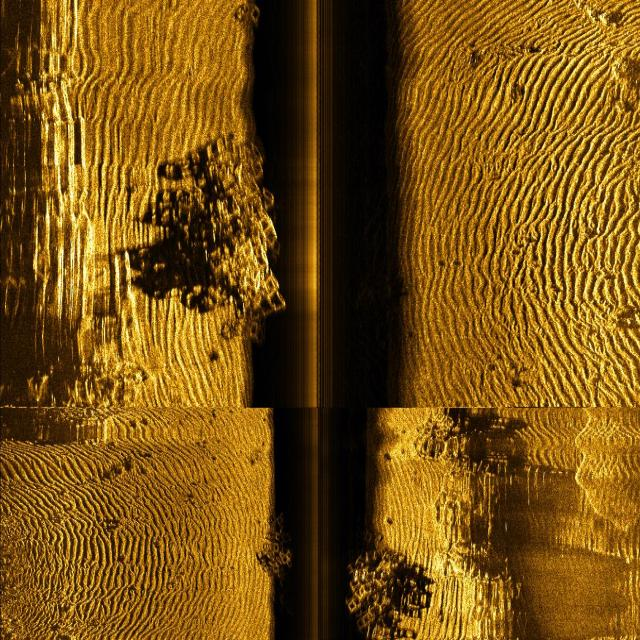artificial reef: (177, 152, 296, 336), (340, 509, 412, 640), (258, 492, 301, 580), (229, 0, 266, 29)
